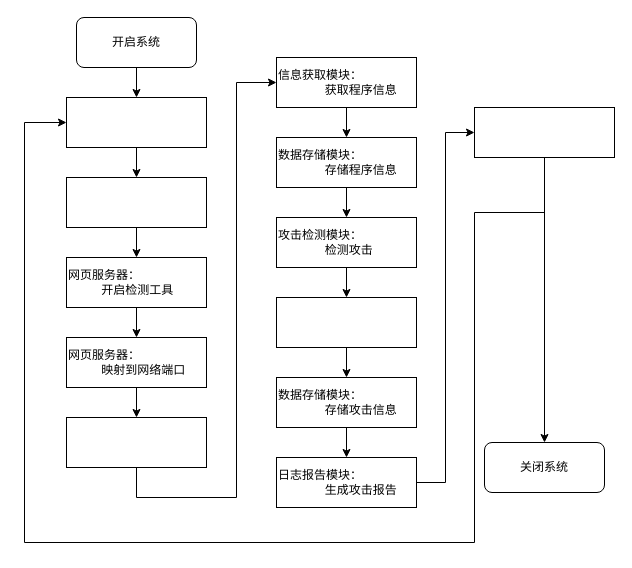
Image size: 632x568. Some labels were removed from this diagram. Each missing label, with the centre of its shape:
"攻击类型识别模块： 识别攻击类型" goes at (346,322).
"攻击者对程序进行攻击" goes at (136,442).
"网页服务器： 查看检测报告" goes at (544,132).
"网页服务器： 选择检测方法" goes at (136,202).
"网页服务器： 选择被检测的程序" goes at (136,122).
